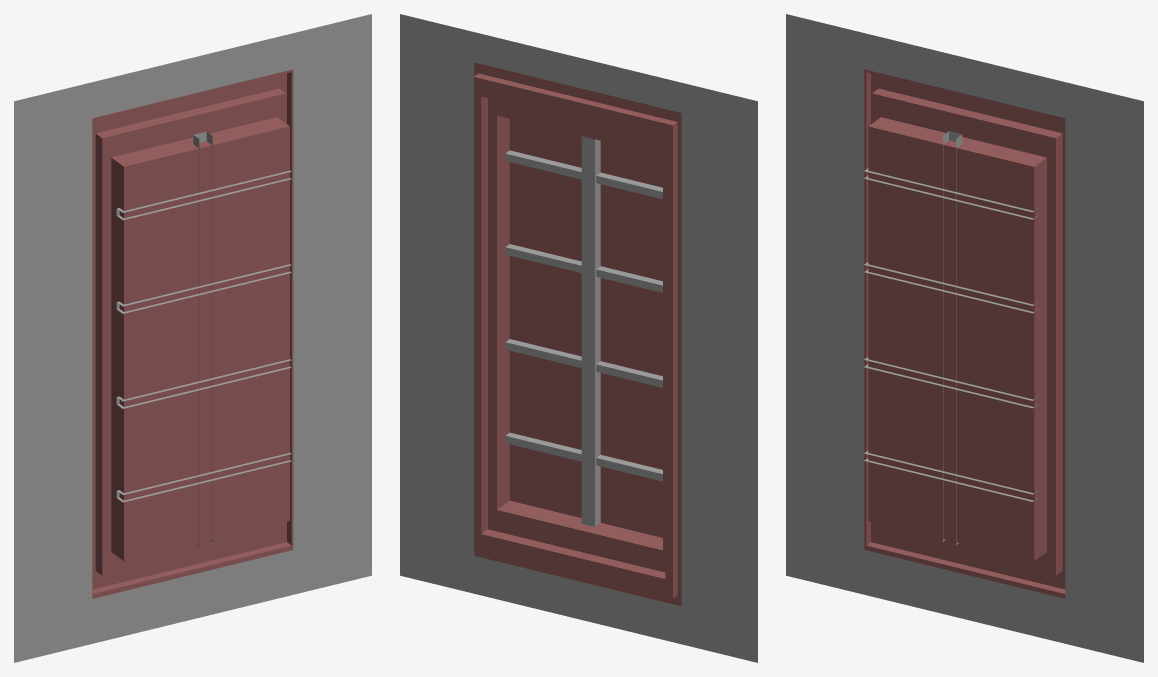
Rendered from 2x3OldLargeWindow2.fbx.
3 views of the same model, side by side, from view 1: azimuth 30°, elevation 25°; view 2: azimuth 150°, elevation 25°; view 3: azimuth 330°, elevation 25° (orthographic).
Visible parts, largest first — view 1: polySurface86; view 2: polySurface86; view 3: polySurface86.
Part boxes in pixels (box(x1,y1,x2,y2)): polySurface86: box(14, 14, 371, 662); polySurface86: box(400, 14, 757, 662); polySurface86: box(786, 14, 1143, 662).
Bounding box in the file's own units: 2 × 3 × 0.2041.
